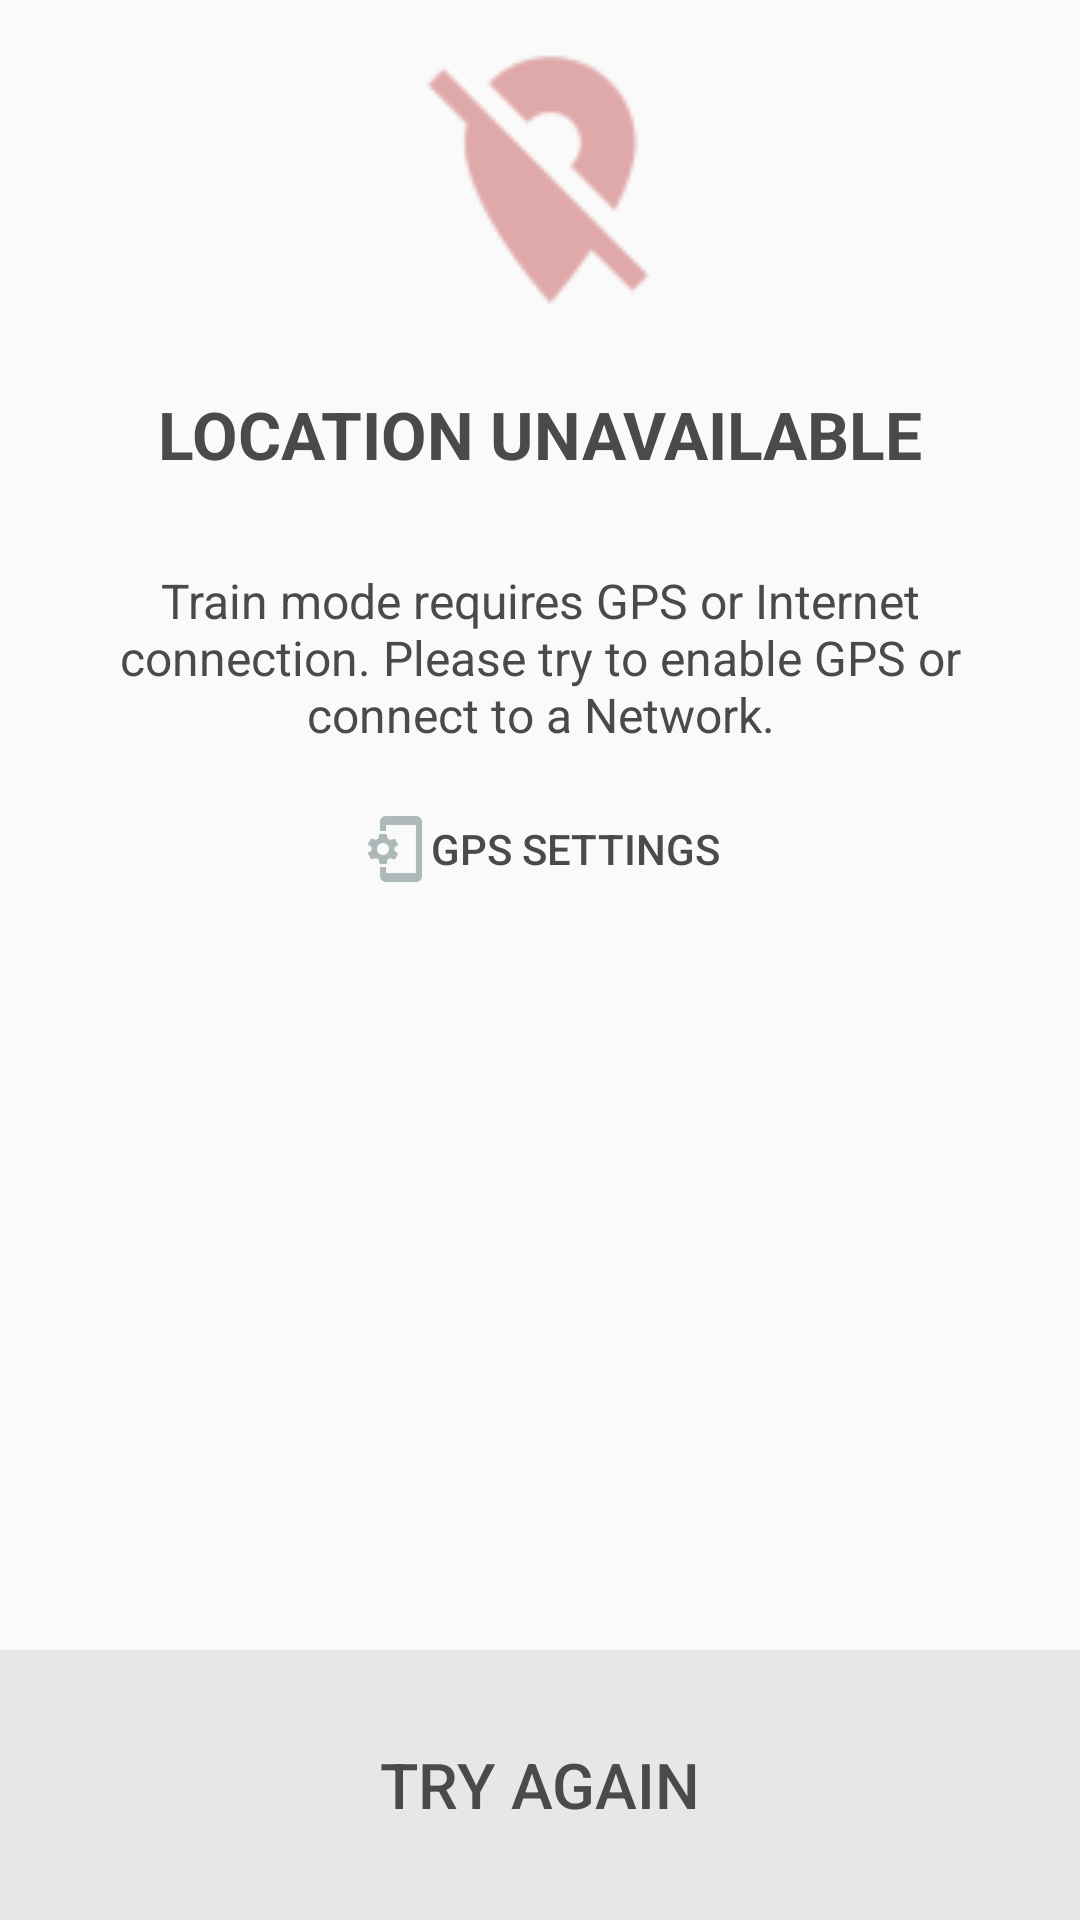

Point at icon controls on the screen. Image size 1080w x 1920h, points as point (x, y).
location off: point (538, 179)
